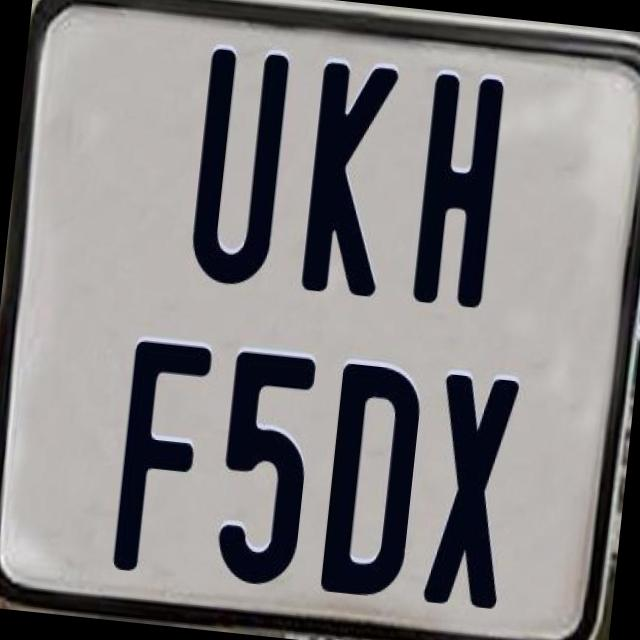5: (208, 344, 312, 584)
D: (314, 362, 424, 608)
F: (109, 334, 220, 582)
H: (412, 72, 508, 313)
K: (300, 61, 404, 307)
U: (184, 46, 287, 293)
X: (420, 368, 526, 612)
